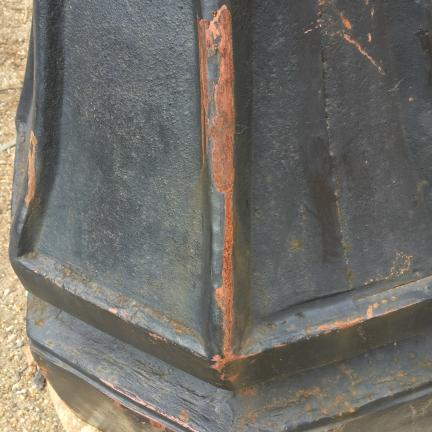karat: (191, 0, 252, 388)
